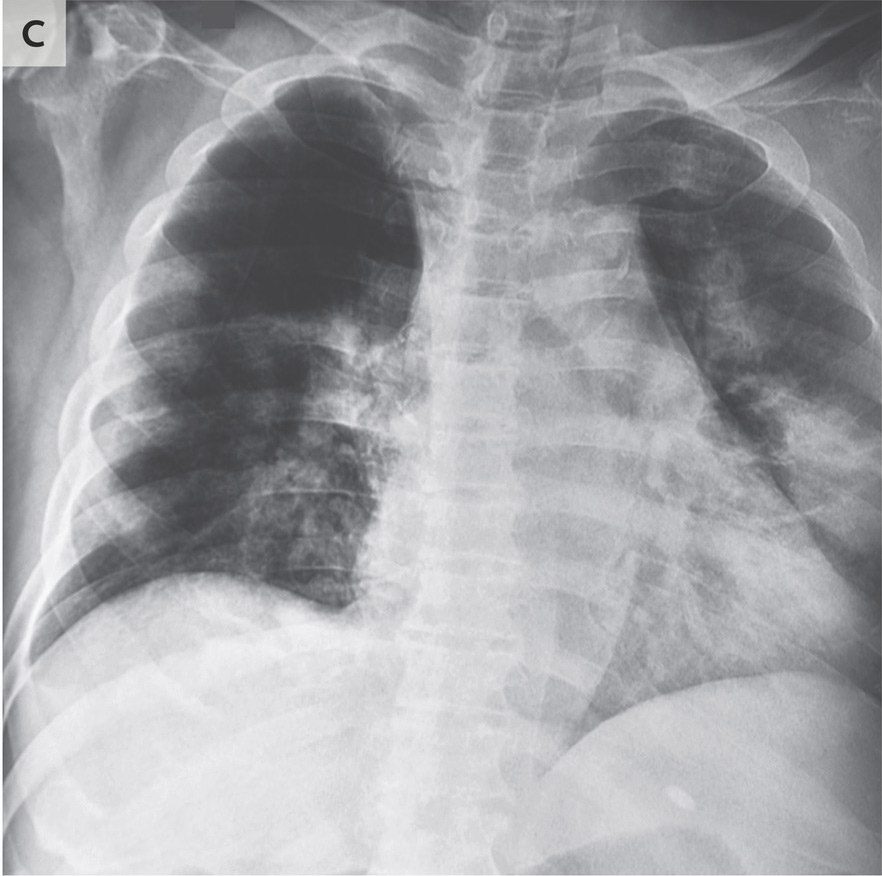Severe: (19, 79, 428, 637), (555, 83, 882, 702)
